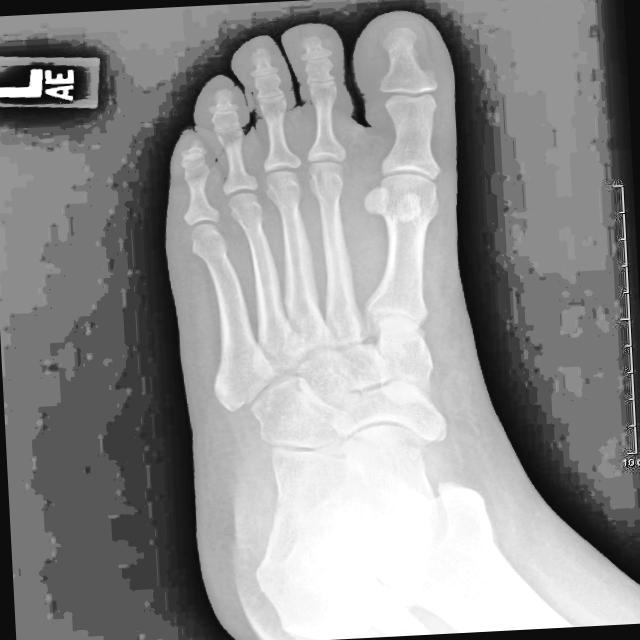Fracture Dislocation: (291, 340, 383, 393)
